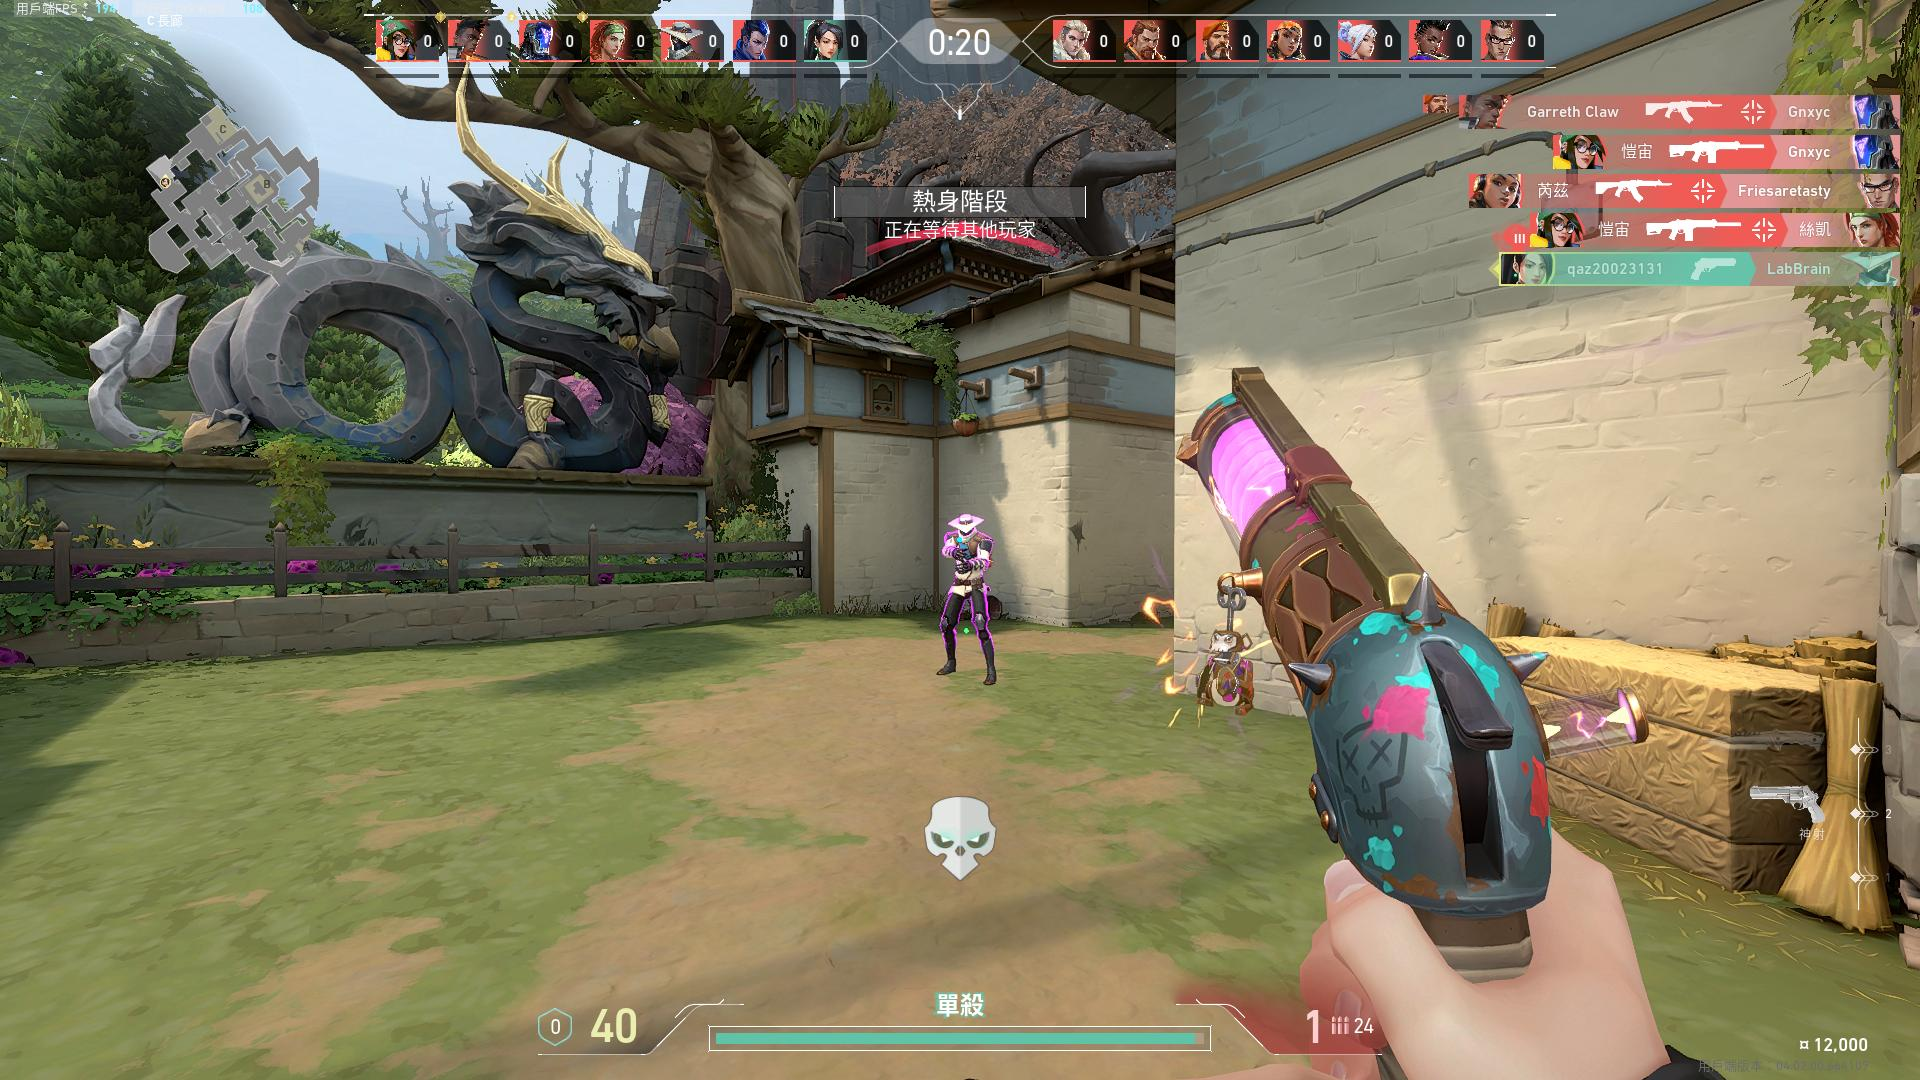enemyBody: (957, 543, 978, 589)
enemyHead: (961, 525, 973, 537)
